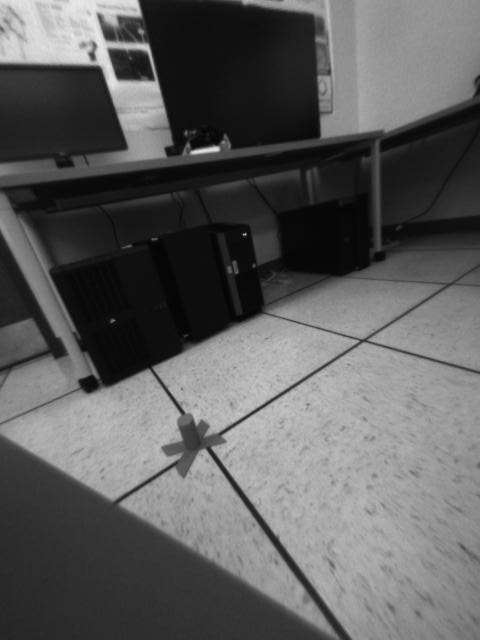X: (162, 414, 228, 478)
